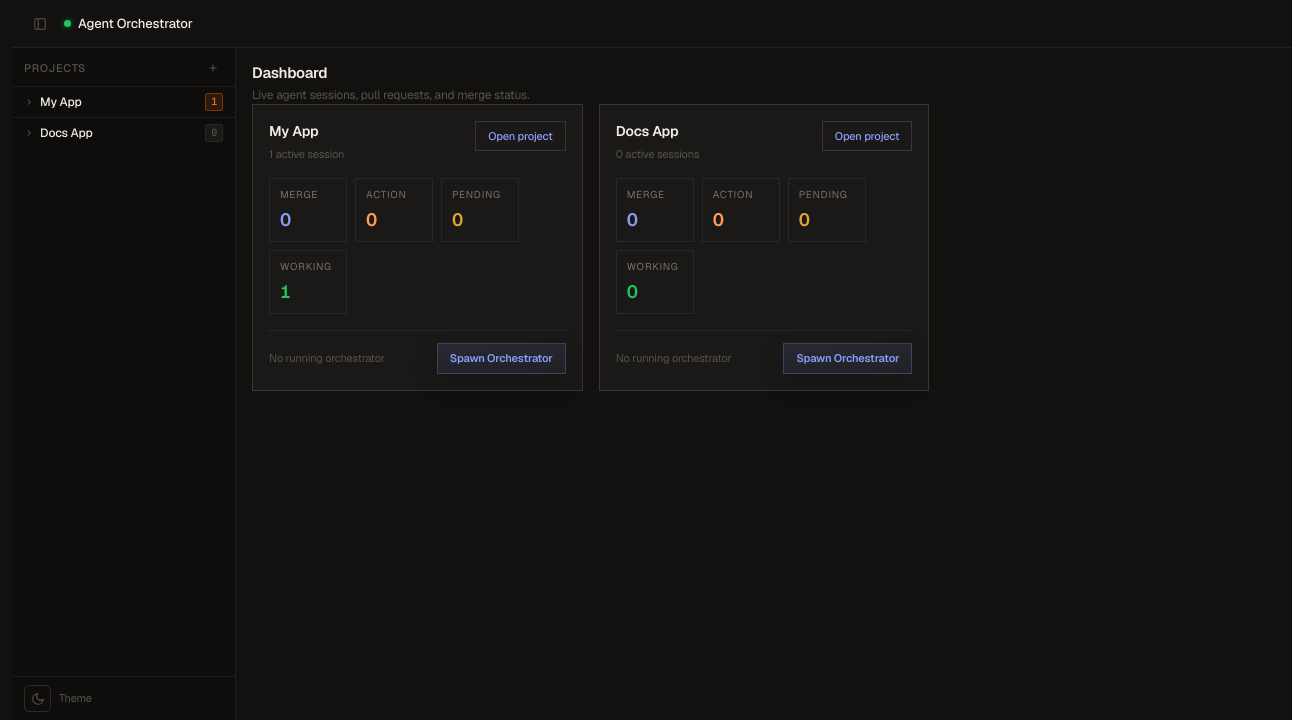
Dashboard project overview cards › shows the API error when spawning fails
What coordinates should you click on to do the following:
click the 2nd button "Spawn Orchestrator"
I would click on:
 (848, 358)
Its box is [783,343,912,374].
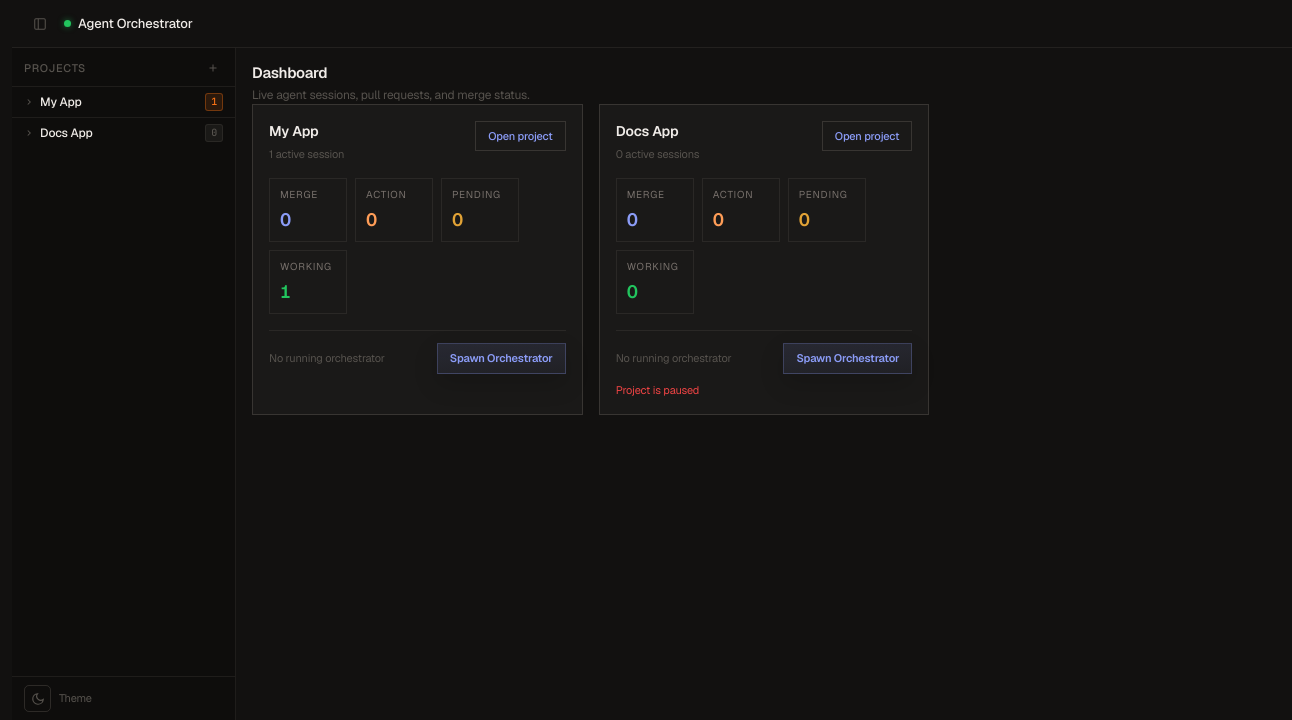
Expected: the number of buttons "Spawn Orchestrator" is 2, [437,343,566,374]; [783,343,912,374]
Expected: the text "Project is paused" is shown, [616,382,699,396]
